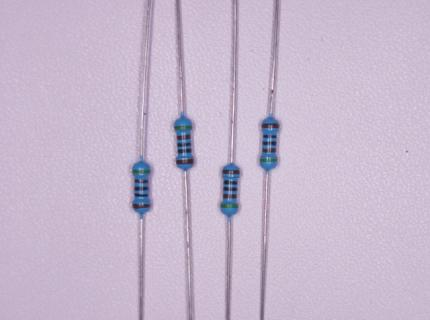Black band: (177, 143, 192, 148), (262, 141, 277, 146), (135, 186, 149, 191), (177, 149, 192, 153), (223, 181, 238, 185), (262, 134, 277, 138), (223, 187, 237, 191), (133, 194, 148, 197)
Brown band: (132, 204, 151, 210), (176, 158, 194, 164), (221, 169, 240, 174), (262, 124, 280, 129), (222, 194, 237, 199), (134, 179, 149, 184), (176, 135, 190, 140), (261, 149, 278, 153)
Green band: (173, 125, 192, 130), (132, 169, 151, 174), (260, 158, 278, 163), (220, 204, 239, 208)
